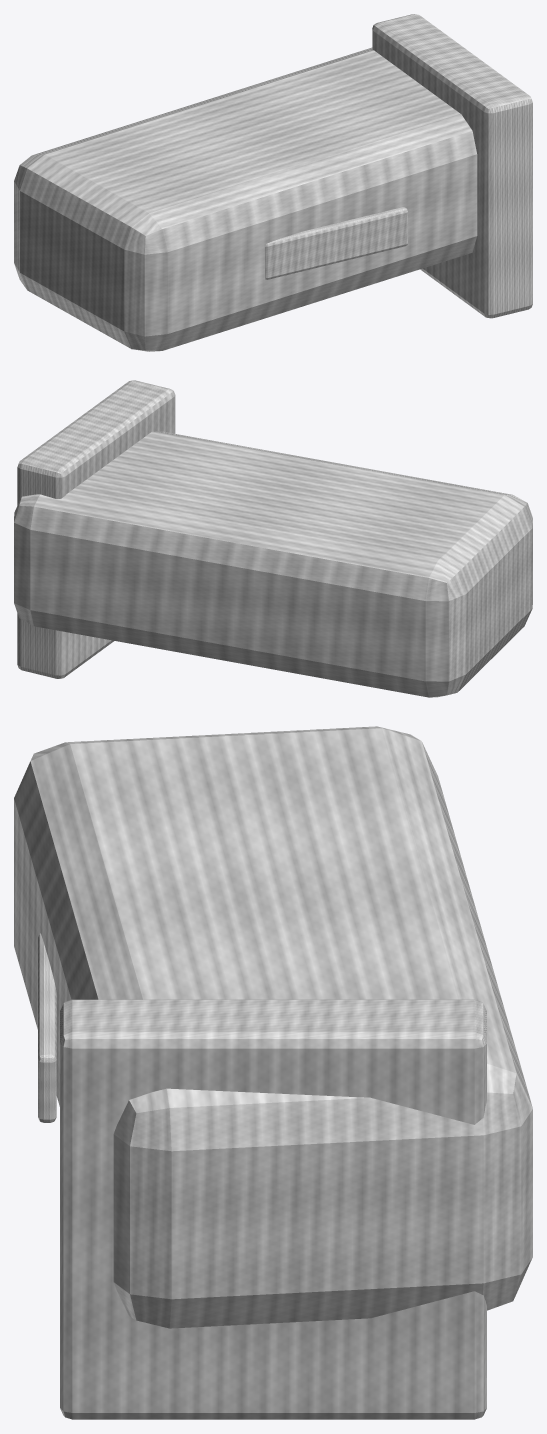
The model's file is item-copper-ingot_variant_b.glb.
The picture shows the model from 3 angles, top to bottom: view 1: azimuth 30°, elevation 25°; view 2: azimuth 150°, elevation 25°; view 3: azimuth 270°, elevation 25°; orthographic projection. The views are drawn at different scales.
Parts seen in each view (by area): view 1: Metal ingot.001, Variant reinforcement, Ingot stamped mark.001; view 2: Metal ingot.001, Variant reinforcement; view 3: Metal ingot.001, Variant reinforcement, Ingot stamped mark.001.
Part boxes in pixels (x1,y1,x2,y2): Metal ingot.001: [14, 47, 477, 351]; Variant reinforcement: [372, 14, 532, 318]; Ingot stamped mark.001: [265, 207, 407, 279]; Metal ingot.001: [14, 431, 532, 697]; Variant reinforcement: [17, 380, 175, 678]; Metal ingot.001: [14, 726, 532, 1328]; Variant reinforcement: [60, 999, 486, 1419]; Ingot stamped mark.001: [38, 933, 56, 1122].
Size of what is drawn, in the model's own units: 0.7448 by 0.34 by 0.413.
3 materials, 3 textured.
